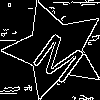M: (30, 24, 93, 85)
